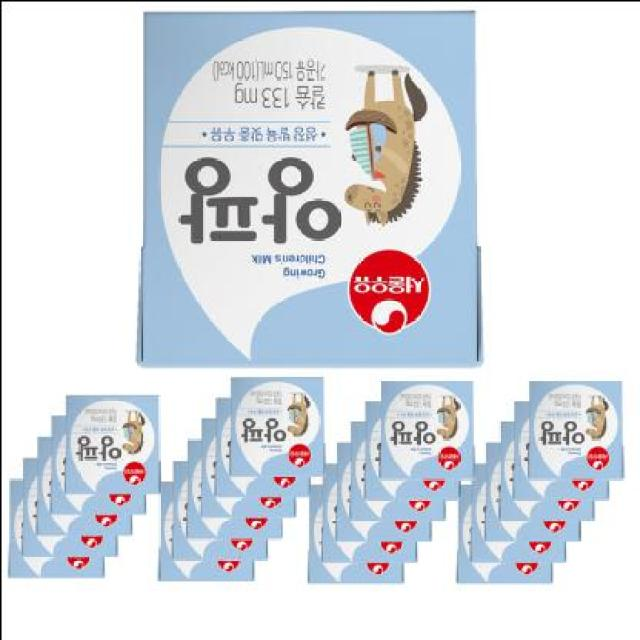tetra: (107, 1, 499, 388)
